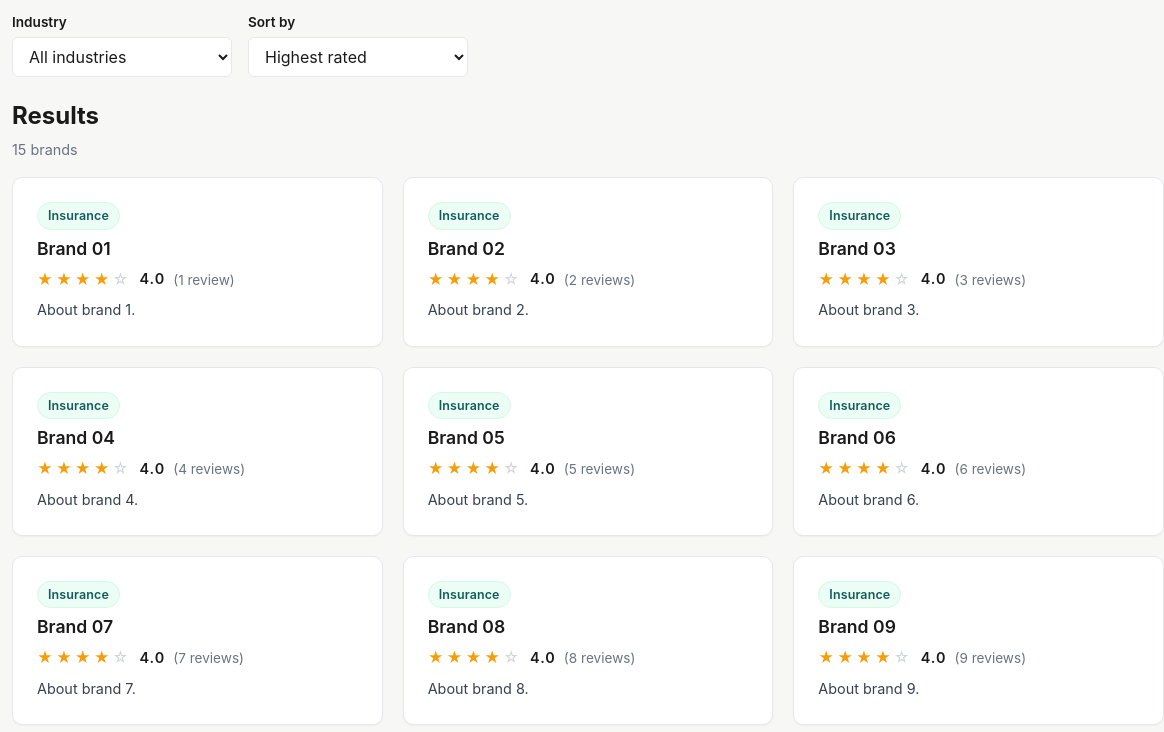
filtering, sorting and the URL › sorts and puts the ordering in the URL
Check: the heading "Brand 01" is shown, box [37,238,111,259]
Select "Most reviews" in the dropdown labelled "Sort by" at (358, 57), box [248,37,468,77]
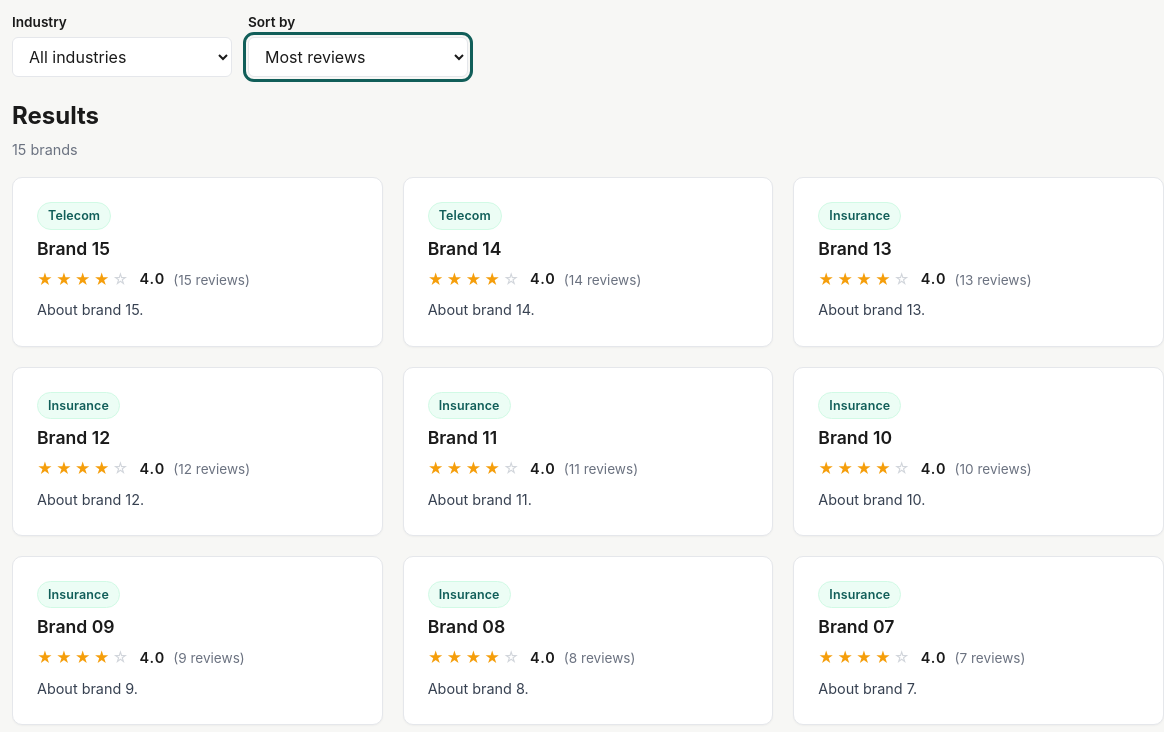
Check: the link "Brand 15" is shown, box [37,238,110,259]
